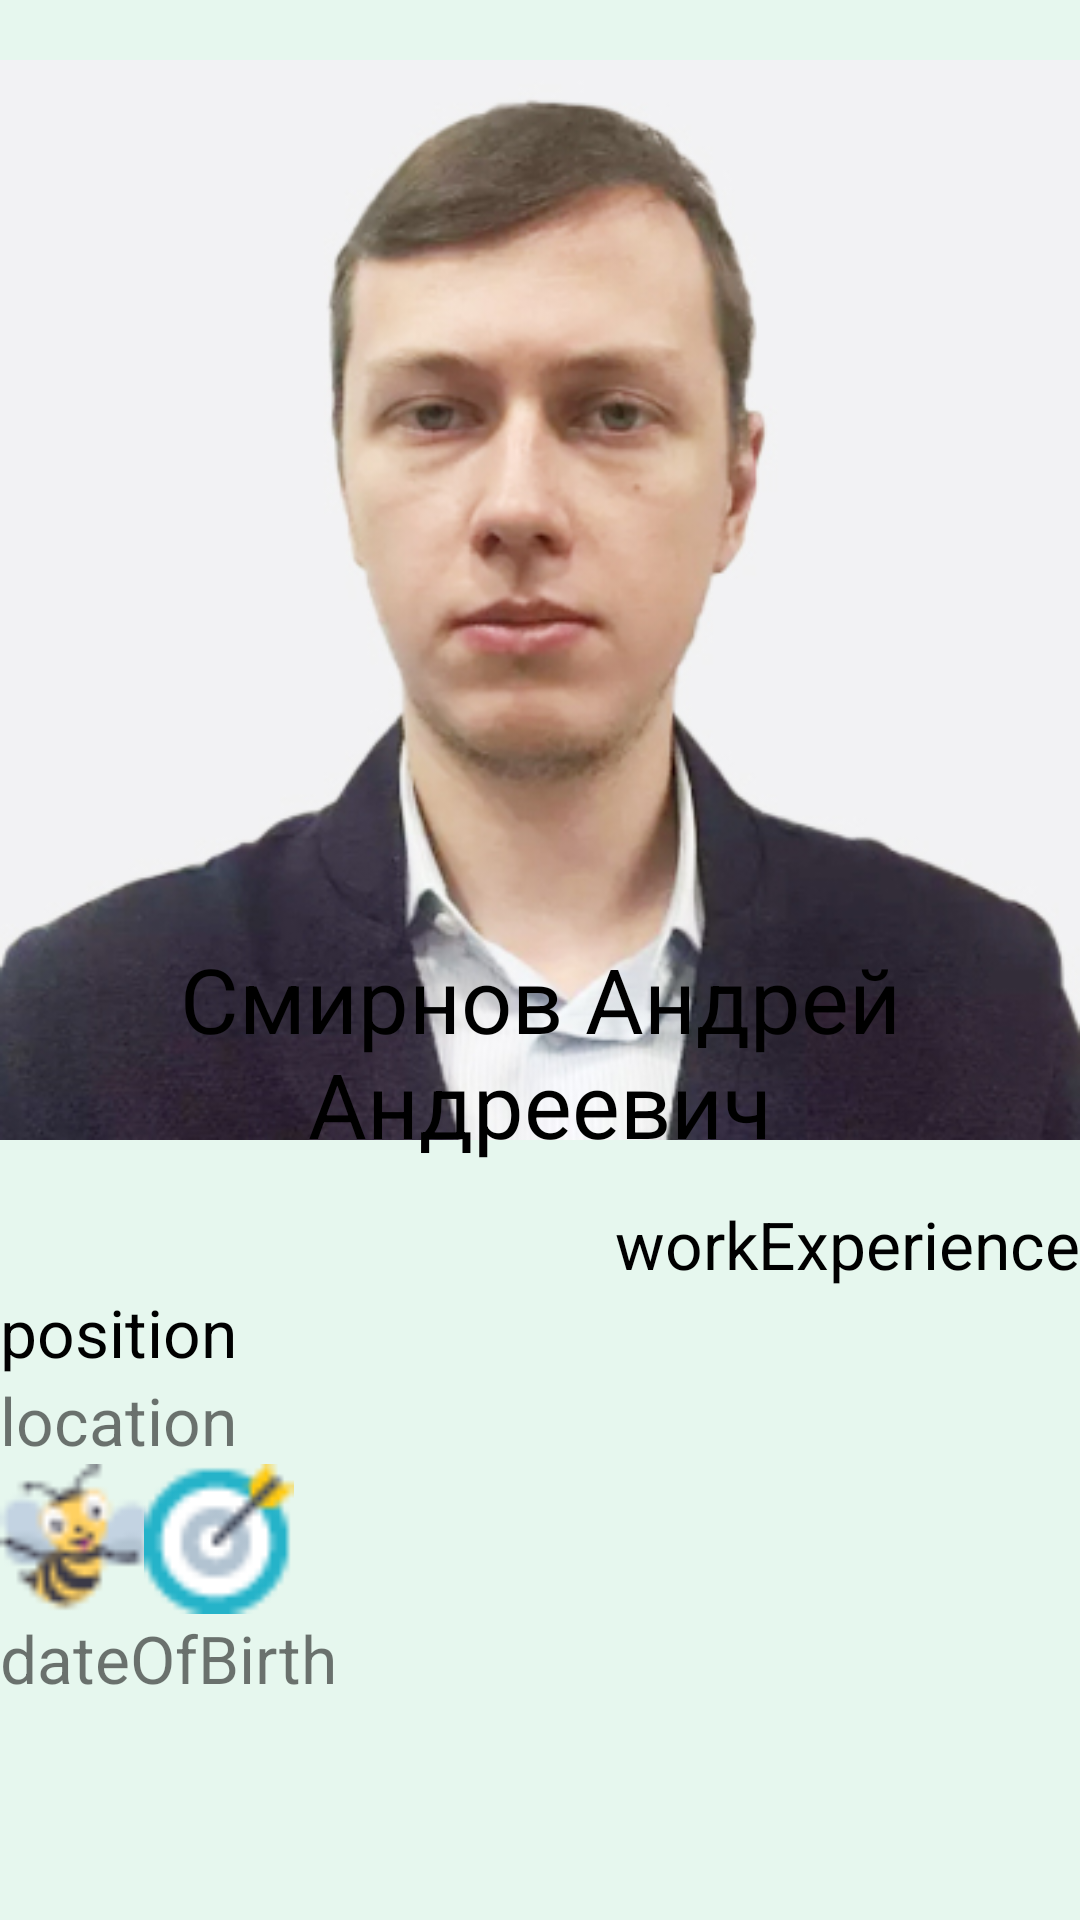

Icons on this 1080 x 1920 Android screen, each with the point to tap as (x=x, y=y):
ambitious: (x=219, y=1539)
hardworking: (x=75, y=1536)
